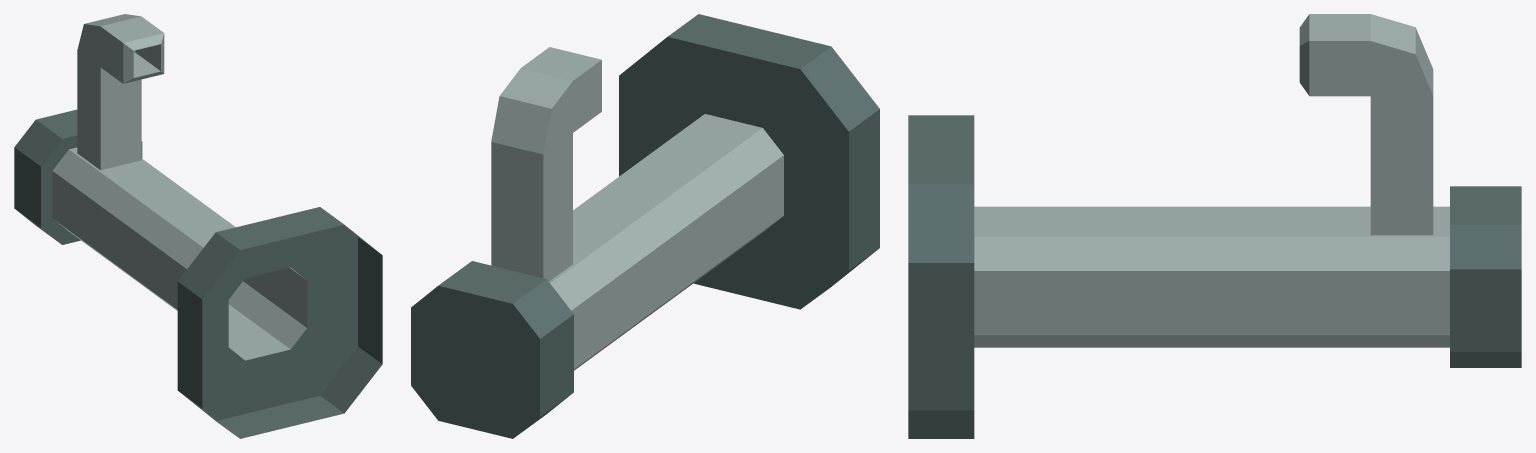
File: Tap 01.FBX
3 renders of one model, left to right at view 1: azimuth 30°, elevation 25°; view 2: azimuth 150°, elevation 25°; view 3: azimuth 270°, elevation 25°, orthographic. The views are drawn at different scales.
Parts seen in each view (by area): view 1: Tap 01; view 2: Tap 01; view 3: Tap 01.
Boxes of the visible parts, box(x1,y1,x2,y2) form: Tap 01: box(14, 14, 382, 438); Tap 01: box(411, 14, 879, 438); Tap 01: box(908, 14, 1521, 438).
Bounding box in the file's own units: 23.87 × 35.33 × 52.08.
1 material, 1 textured.
